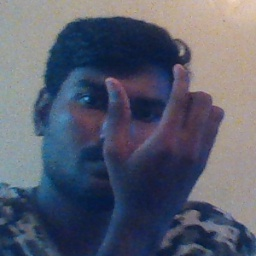U: (103, 61, 226, 204)
